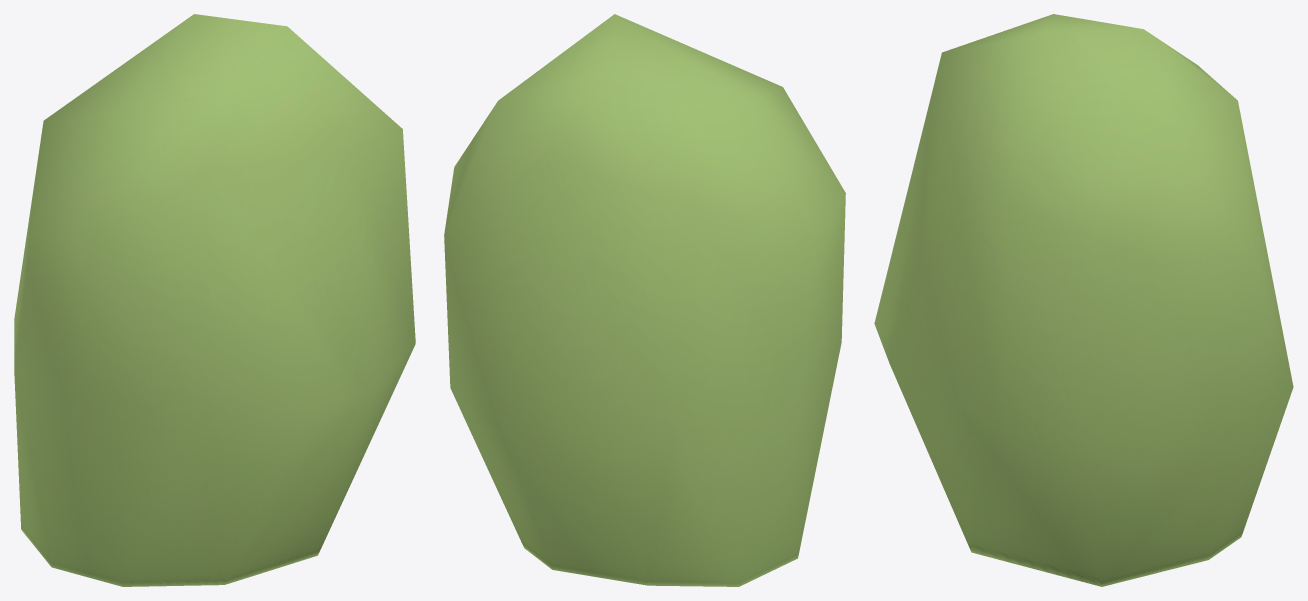
File: bush_d.glb
The picture shows the model from 3 angles, left to right: view 1: azimuth 30°, elevation 25°; view 2: azimuth 150°, elevation 25°; view 3: azimuth 270°, elevation 25°; orthographic projection. The views are drawn at different scales.
Visible parts, largest first — view 1: bush.001; view 2: bush.001; view 3: bush.001.
Boxes of the visible parts, x1,y1,x2,y2 form: bush.001: [14, 14, 415, 586]; bush.001: [444, 14, 845, 586]; bush.001: [874, 14, 1293, 586].
Bounding box in the file's own units: 1.51 × 2.04 × 1.49.
Materials: 1 (1 with a texture image).
